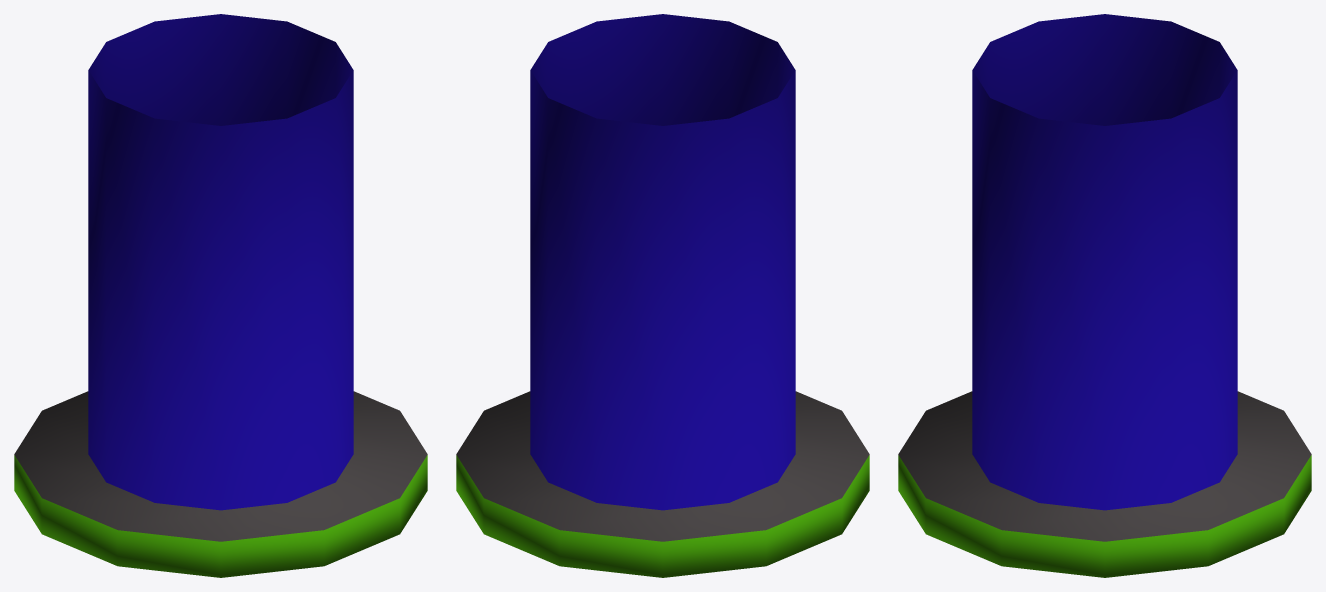
The model's file is Bumpers_60cm_low.fbx.
3 renders of one model, left to right at view 1: azimuth 30°, elevation 25°; view 2: azimuth 150°, elevation 25°; view 3: azimuth 270°, elevation 25°, orthographic.
Parts seen in each view (by area): view 1: Bumper_60cm; view 2: Bumper_60cm; view 3: Bumper_60cm.
Boxes of the visible parts, box(x1,y1,x2,y2) form: Bumper_60cm: box(14, 14, 427, 577); Bumper_60cm: box(456, 14, 869, 577); Bumper_60cm: box(898, 14, 1311, 577).
Bounding box in the file's own units: 0.5179 × 0.6001 × 0.5179.
